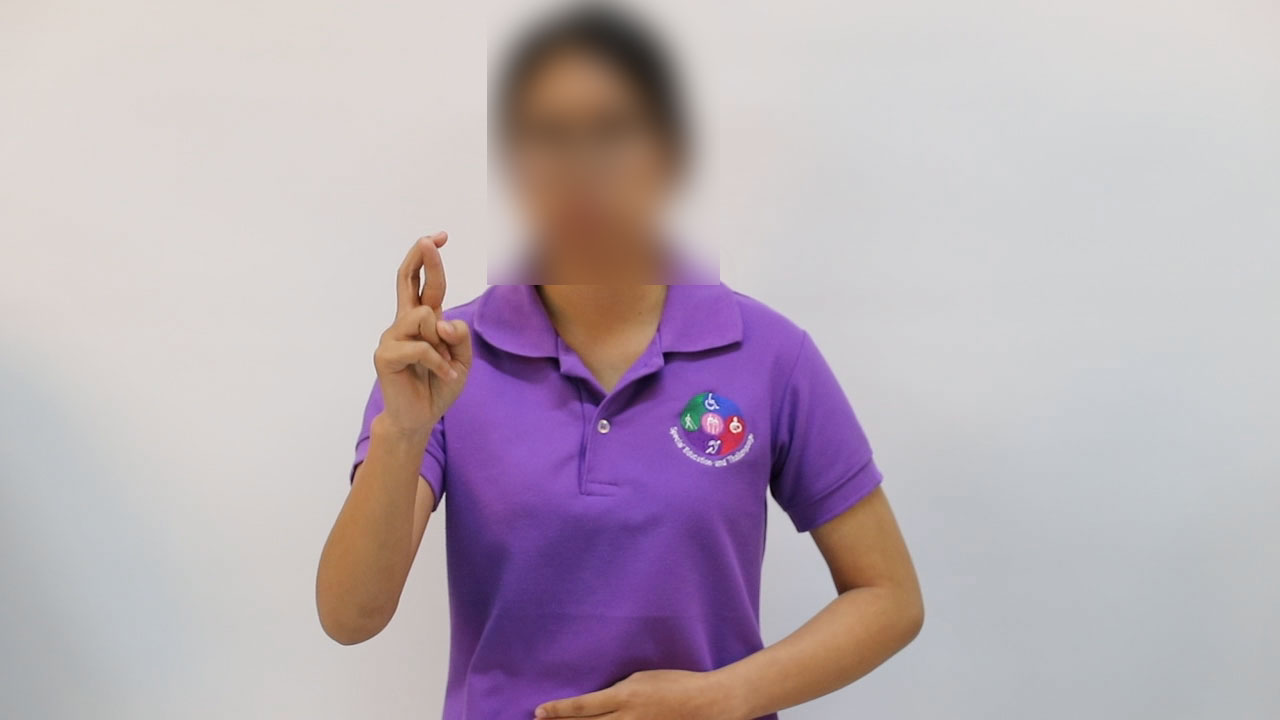rao: (354, 226, 478, 444)
